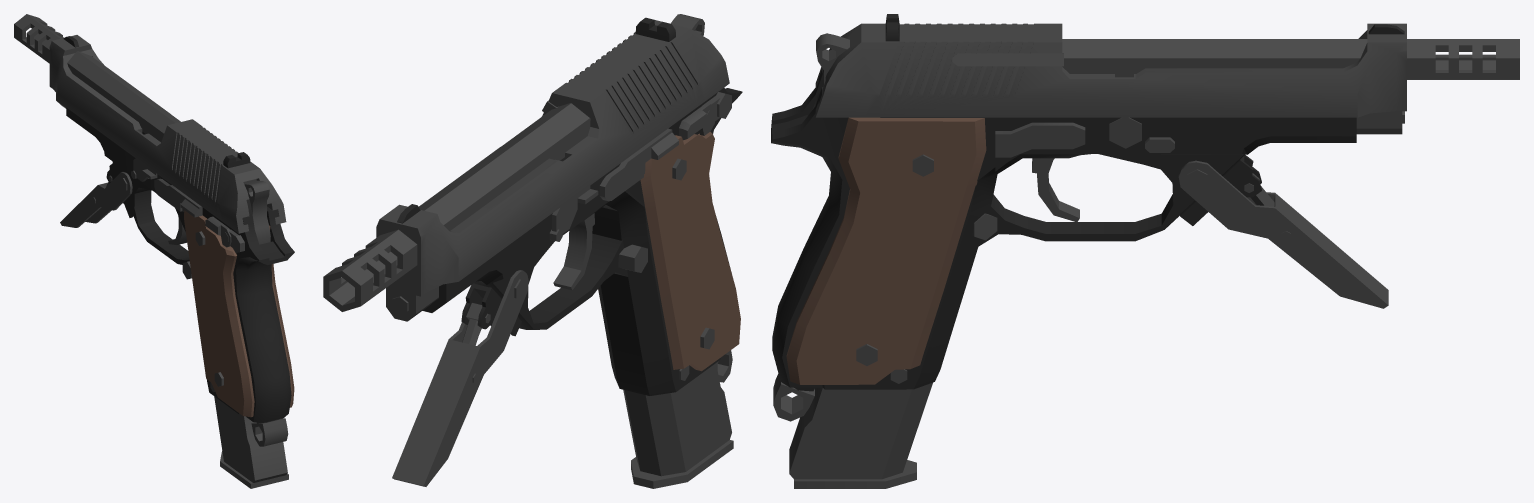
The model's file is gun_b93r.glb.
The picture shows the model from 3 angles, left to right: view 1: azimuth 30°, elevation 25°; view 2: azimuth 150°, elevation 25°; view 3: azimuth 270°, elevation 25°; orthographic projection. The views are drawn at different scales.
Parts seen in each view (by area): view 1: body, slide, mag; view 2: body, slide, mag; view 3: body, slide, mag.
Part boxes in pixels (box(x1,y1,x2,y2)): body: box(14, 14, 294, 446); slide: box(49, 35, 286, 233); mag: box(214, 396, 288, 488); body: box(323, 14, 742, 486); slide: box(376, 17, 729, 321); mag: box(623, 363, 733, 488); body: box(771, 33, 1519, 421); slide: box(815, 14, 1406, 134); mag: box(789, 382, 932, 488).
Size of the model in its own units: 0.1292 by 0.67 by 1.
